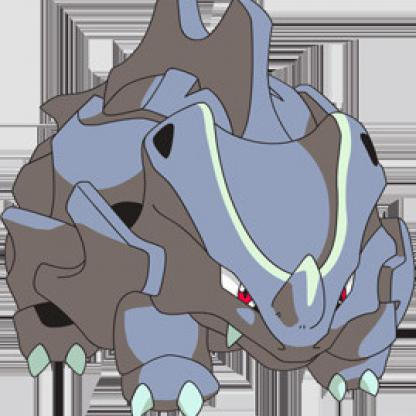Rhyhorn: (6, 1, 416, 416)
